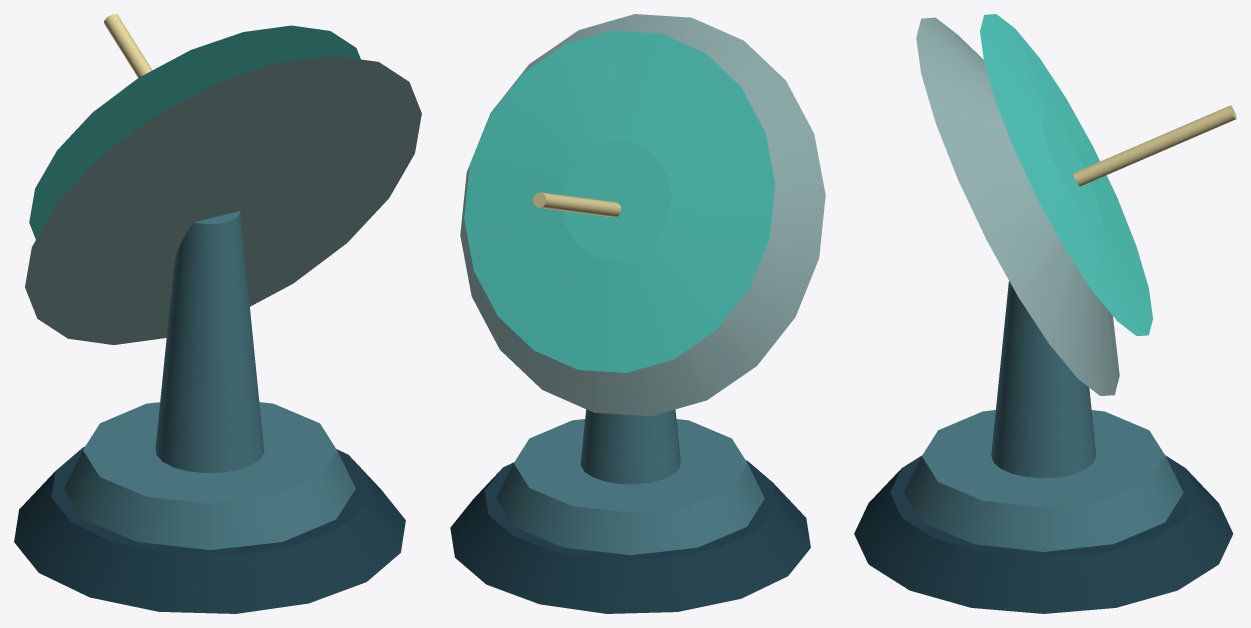
Rendered from pelagic_high_pressure--sensor_array.glb.
3 renders of one model, left to right at view 1: azimuth 30°, elevation 25°; view 2: azimuth 150°, elevation 25°; view 3: azimuth 270°, elevation 25°, orthographic. The views are drawn at different scales.
Visible parts, largest first — view 1: sensor_dish_4, mount_adapter_1, rotation_bearing_2, sensor_mast_3, array_face_5, receiver_6; view 2: array_face_5, sensor_dish_4, mount_adapter_1, rotation_bearing_2, sensor_mast_3, receiver_6; view 3: mount_adapter_1, rotation_bearing_2, sensor_dish_4, array_face_5, sensor_mast_3, receiver_6.
Part boxes in pixels (<box>): sensor_dish_4: <box>25,55,421,344</box>; mount_adapter_1: <box>14,447,405,613</box>; rotation_bearing_2: <box>64,402,355,549</box>; sensor_mast_3: <box>155,211,264,472</box>; array_face_5: <box>29,25,360,239</box>; receiver_6: <box>104,14,152,77</box>; array_face_5: <box>464,30,775,372</box>; sensor_dish_4: <box>460,14,825,416</box>; mount_adapter_1: <box>450,460,810,613</box>; rotation_bearing_2: <box>496,419,764,555</box>; sensor_mast_3: <box>580,409,680,484</box>; receiver_6: <box>533,192,621,217</box>; mount_adapter_1: <box>854,455,1233,613</box>; rotation_bearing_2: <box>904,410,1183,551</box>; sensor_dish_4: <box>916,17,1119,395</box>; array_face_5: <box>980,14,1152,335</box>; sensor_mast_3: <box>991,281,1096,478</box>; receiver_6: <box>1073,105,1236,186</box>.
Size of the model in its own units: 11.28 by 14.73 by 10.17.
